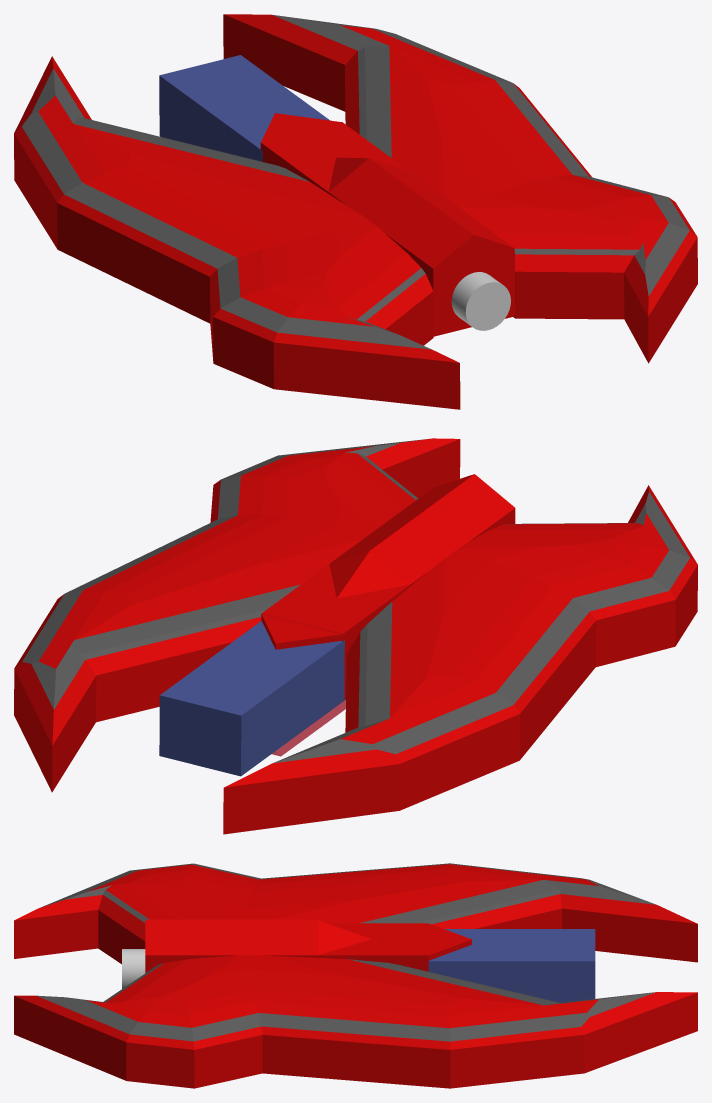
The model's file is spider-man_web_shooter_design.glb.
3 views of the same model, one above another, from view 1: azimuth 30°, elevation 25°; view 2: azimuth 150°, elevation 25°; view 3: azimuth 270°, elevation 25° (orthographic). The views are drawn at different scales.
Parts seen in each view (by area): view 1: Body7; view 2: Body7, Body16; view 3: Body7.
Part boxes in pixels (box(x1,y1,x2,y2)): Body7: box(14, 14, 697, 409); Body7: box(14, 438, 697, 834); Body16: box(271, 700, 345, 756); Body7: box(14, 863, 697, 1088).
Bounding box in the file's own units: 0.371 × 0.0778 × 0.5784.
